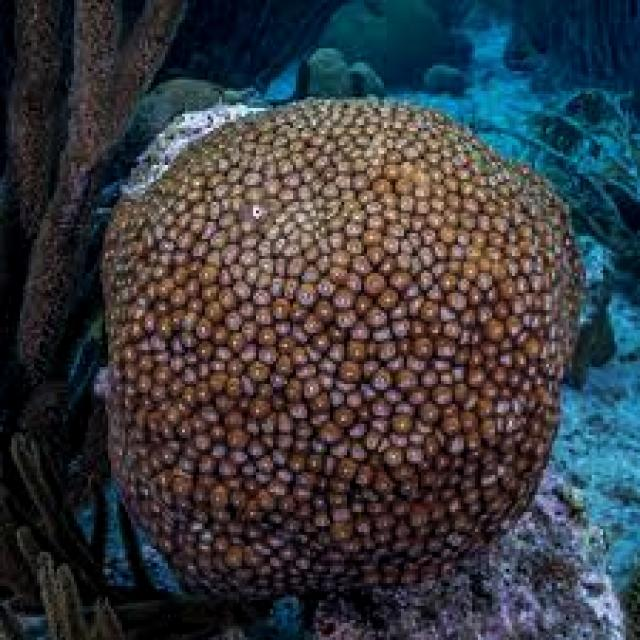Coral: (99, 95, 586, 605), (1, 0, 194, 390)
